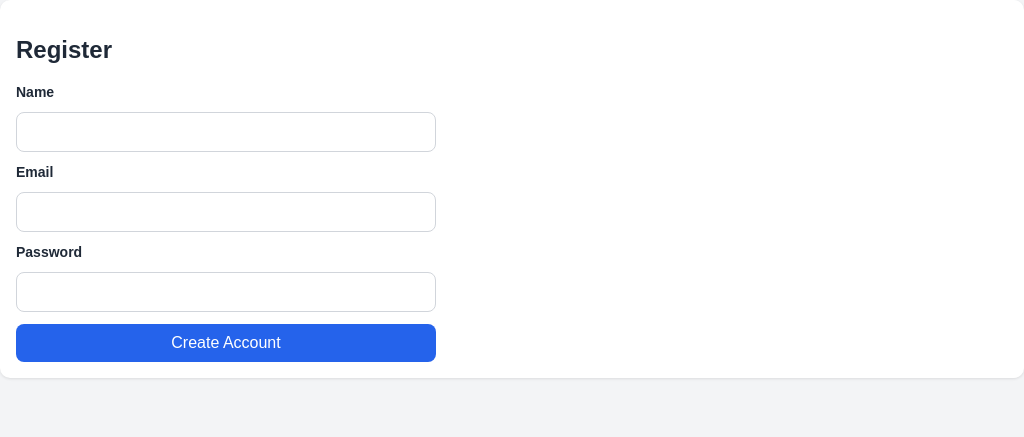
Test: renders register page and submits valid form
Type "User" into the field labelled "Name" at x=226, y=132, box 16,112 -> 436,152
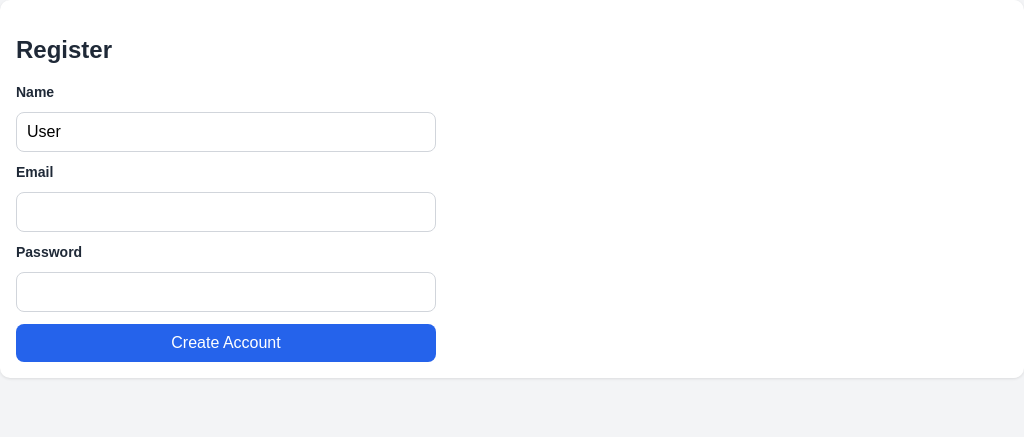
Type "u@x.com" into the field labelled "Email" at x=226, y=212, box 16,192 -> 436,232
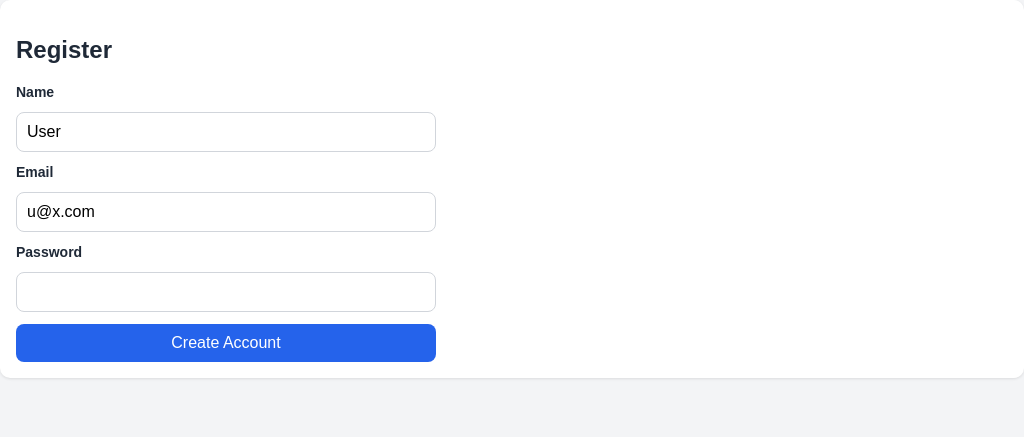
Type "abcd" into the password field labelled "Password" at x=226, y=292, box 16,272 -> 436,312
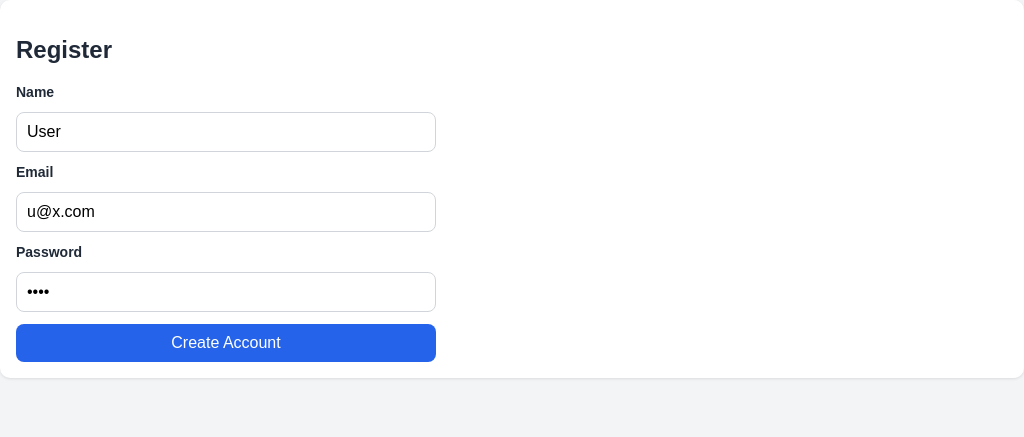
Click the button "Create Account" at x=226, y=343, box 16,324 -> 436,362
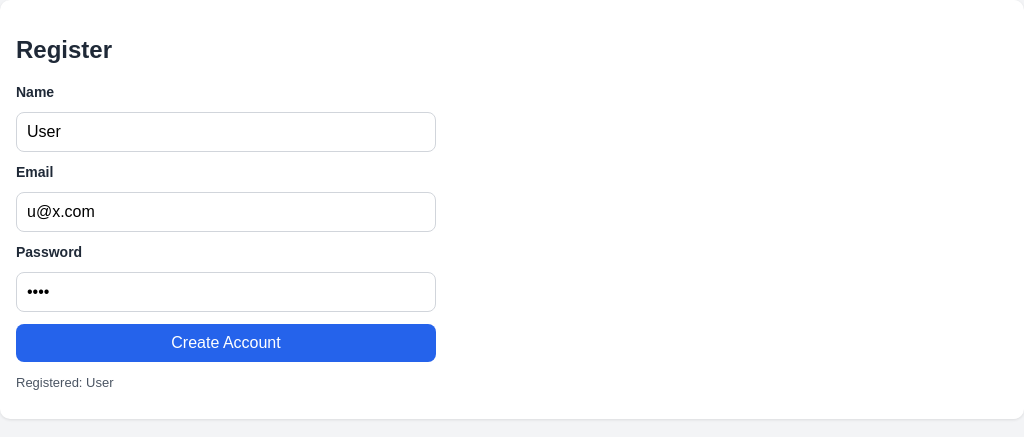
Check: the text "Registered: User" is shown, box 16,375 -> 114,390
